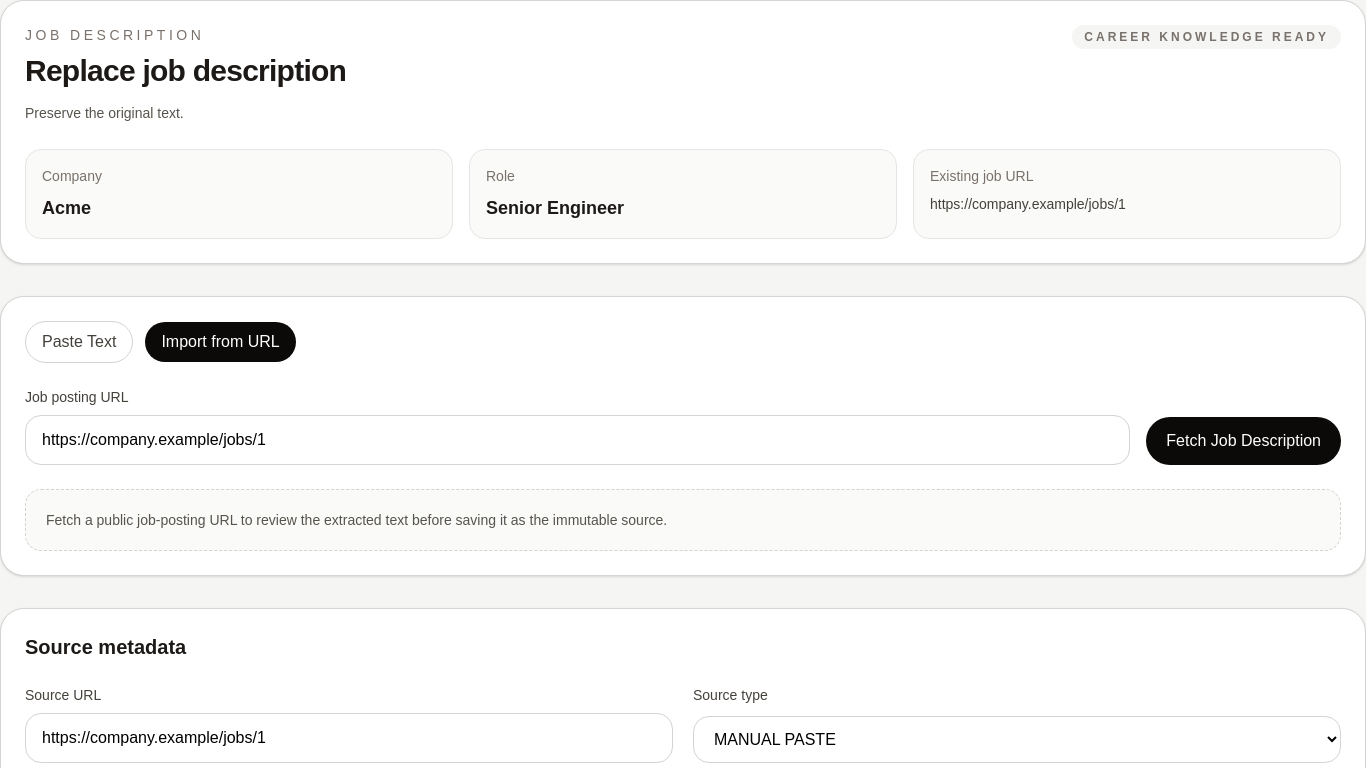
Test case: JobDescriptionForm › fetches a URL preview, exposes metadata, and reports unchanged refetches without auto-saving
Click the button "Fetch Job Description" at point(1244, 441), box [1146,417,1341,465]
(page scrolled)
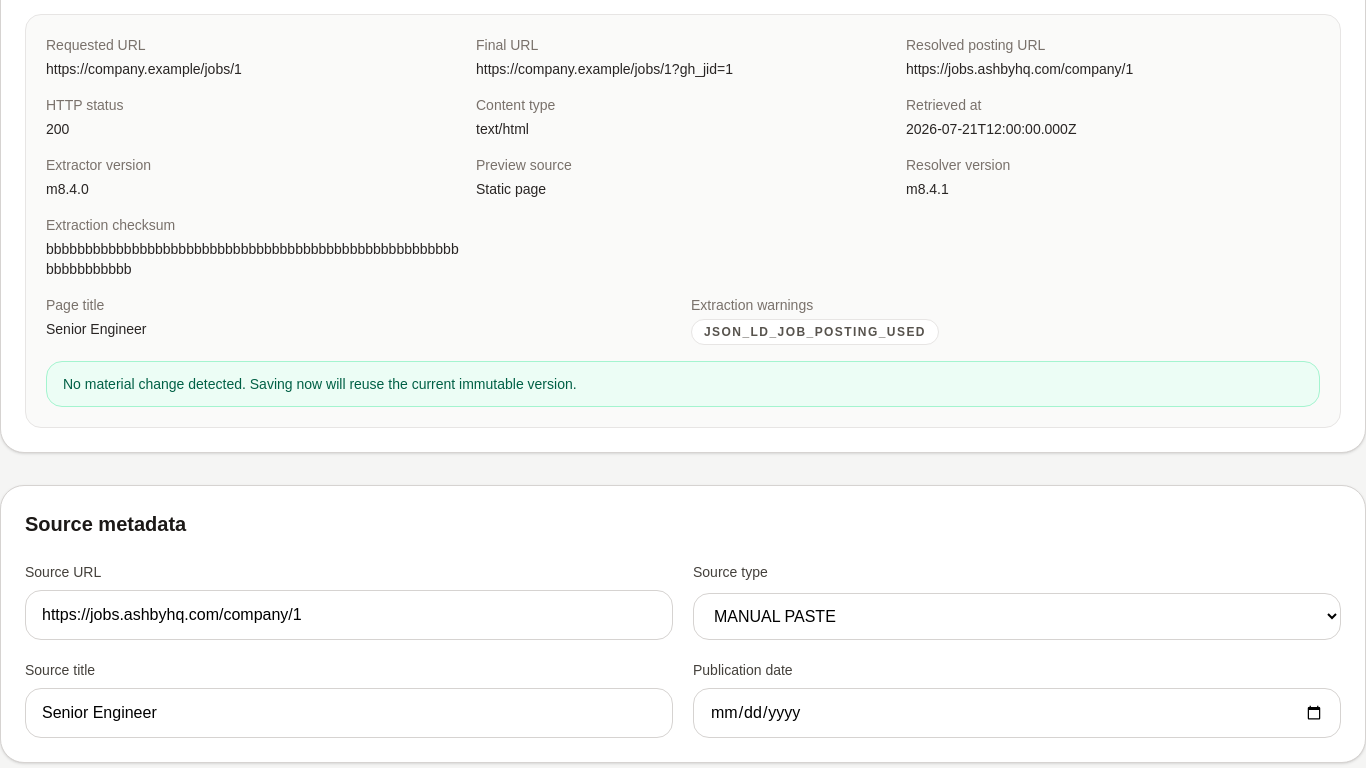
Check: the text "https://company.example/jobs/1?gh_jid=1" is shown, box [476,61,733,77]
Check: the text "https://jobs.ashbyhq.com/company/1" is shown, box [906,61,1133,77]
Check: the text "JSON_LD_JOB_POSTING_USED" is shown, box [691,319,939,345]
